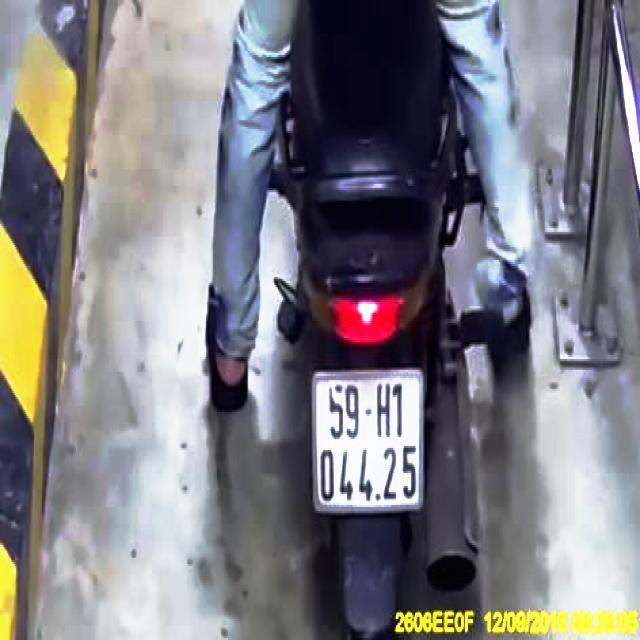license_plate: (317, 376, 423, 508)
